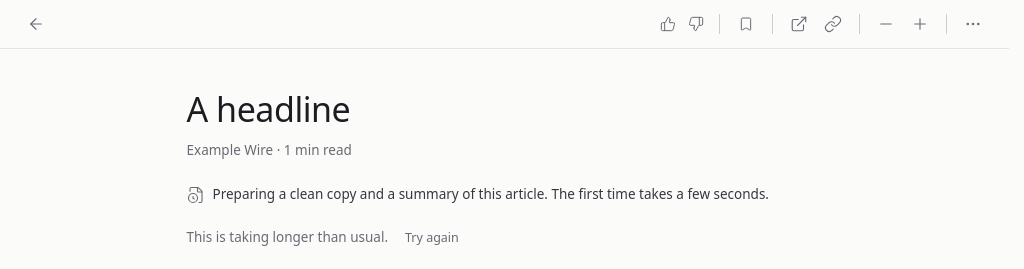
Test: ReaderPage wait › says the wait is long once polling stops, and Try again polls again
Check: the text "This is taking longer than usual." is shown, box 186,228 -> 388,248
Click the button "Try again".
click(432, 238)  # box 396,224 -> 468,252
Wait 3000 ms
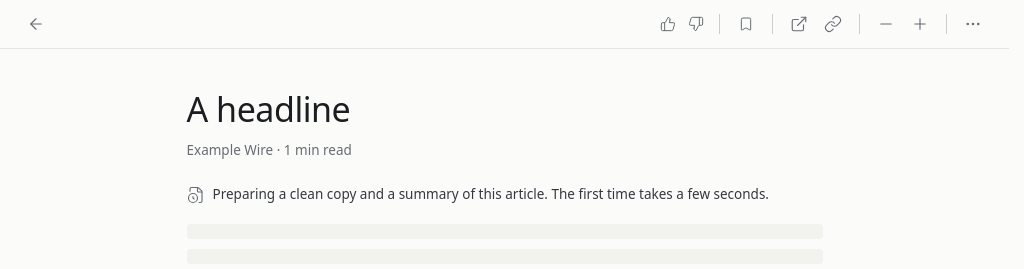
Check: the text "Preparing a clean copy and a summary of this article. The first time takes a few seconds." is shown, box 212,185 -> 769,203
Check: the text "This is taking longer than usual." is gone
